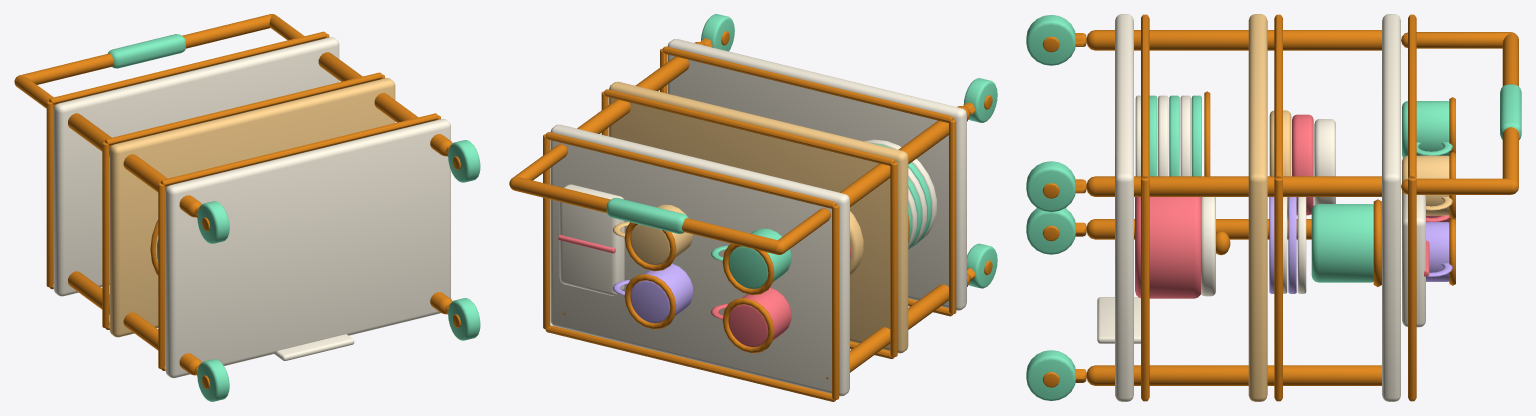
Rendered from KitchenDishCart_Premium.fbx.
The picture shows the model from 3 angles, left to right: view 1: azimuth 30°, elevation 25°; view 2: azimuth 150°, elevation 25°; view 3: azimuth 270°, elevation 25°; orthographic projection. The views are drawn at different scales.
Parts seen in each view (by area): view 1: KitchenDishCart; view 2: KitchenDishCart; view 3: KitchenDishCart.
Boxes of the visible parts, x1,y1,x2,y2 form: KitchenDishCart: (14, 14, 480, 401); KitchenDishCart: (509, 14, 997, 401); KitchenDishCart: (1026, 14, 1521, 401).
Size of the model in its own units: 0.904 by 0.607 by 1.15.
